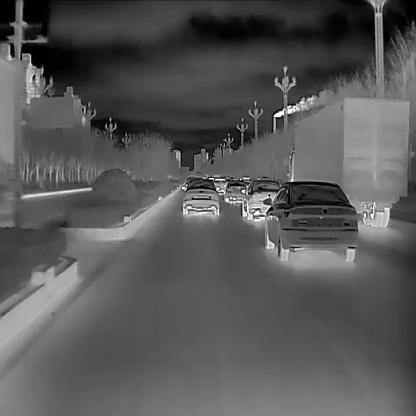car: (287, 97, 408, 228), (264, 179, 357, 261), (241, 181, 282, 221), (181, 179, 220, 216), (222, 179, 248, 203)
